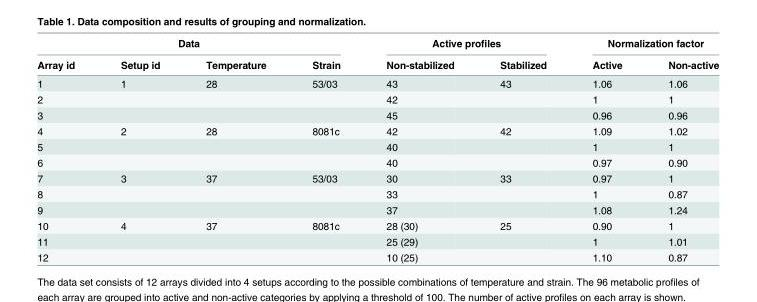table: (36, 36, 718, 262)
table column: (362, 36, 476, 262), (182, 36, 288, 262), (476, 36, 568, 262), (97, 36, 182, 262), (568, 36, 644, 262), (288, 36, 362, 262), (644, 36, 718, 262), (36, 36, 97, 262)
table column header: (36, 36, 718, 73)
table row: (36, 53, 718, 73), (36, 73, 718, 91), (36, 36, 718, 53), (36, 106, 718, 122), (36, 122, 718, 138), (36, 138, 718, 154), (36, 154, 718, 170), (36, 185, 718, 201), (36, 201, 718, 217), (36, 217, 718, 233), (36, 91, 718, 106), (36, 170, 718, 185), (36, 233, 718, 248), (36, 248, 718, 262)
table spanning cell: (36, 36, 362, 53), (362, 36, 568, 53), (568, 36, 718, 53)
